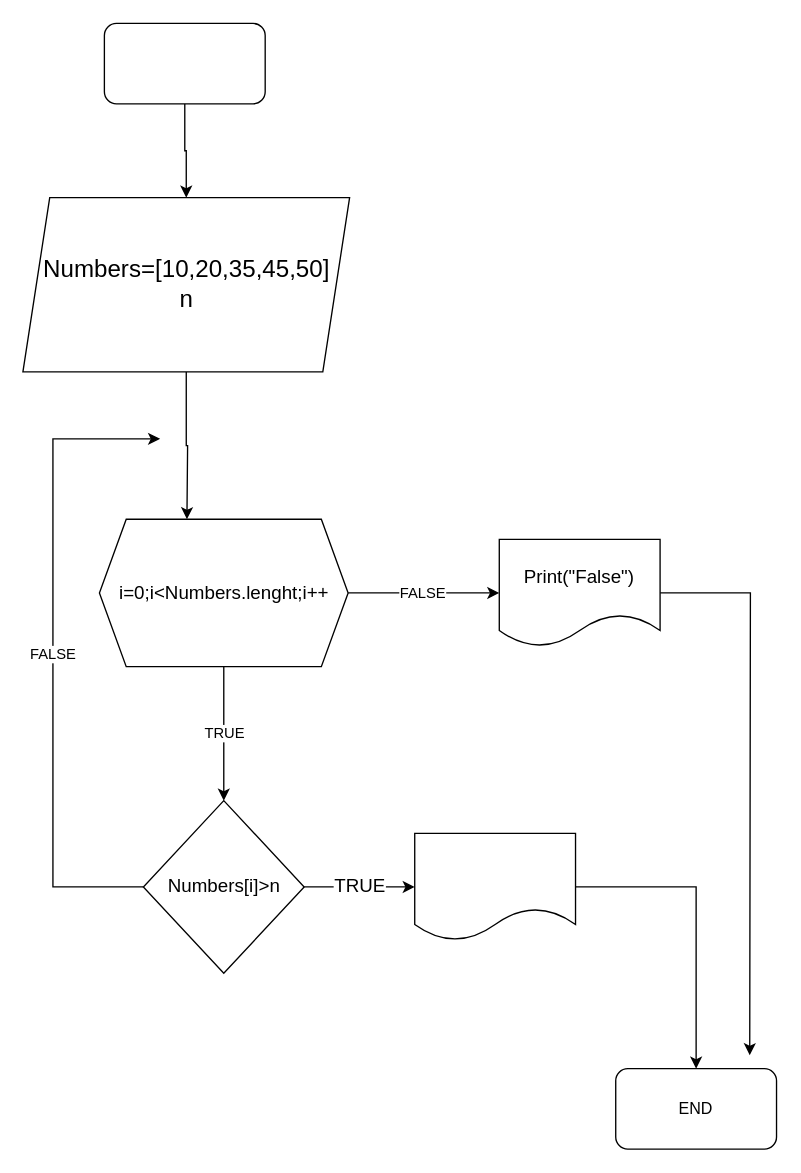
Some shapes in this 801 by 1173 pixel diagram are drawn without their labels. The centre of each missing label's shape, as x and y in pixels:
print("TRUE"): the point at 494,886
START: the point at 184,63
